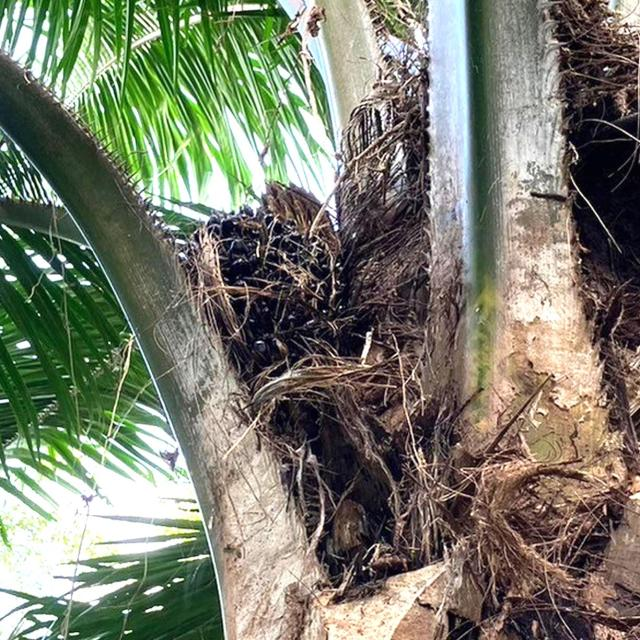unripe: (160, 194, 364, 420)
